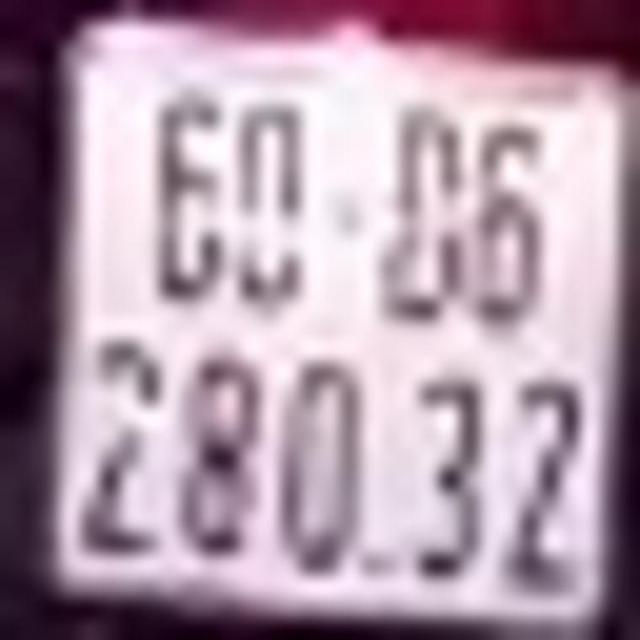0: (282, 338, 362, 585), (232, 92, 311, 314)
2: (74, 332, 163, 554), (508, 372, 582, 583)
3: (412, 371, 482, 584)
6: (472, 113, 554, 337), (152, 90, 228, 306)
8: (174, 342, 261, 560)
D: (379, 97, 465, 329)
